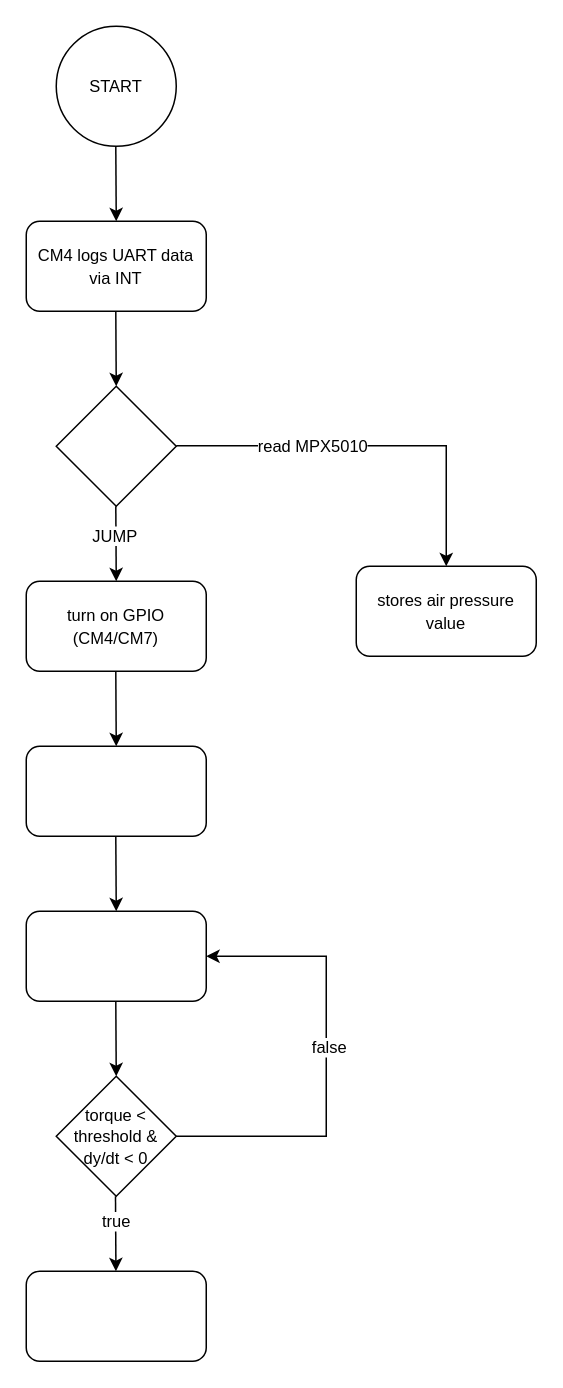
Some shapes in this 563 by 1388 pixel diagram are drawn without their labels. The shapes that lost their labels are listed below. From the top down, each one's centre as x and y in pixels, then its label:
At (115,445): "CMD".
At (115,790): "GPIO-IRQ handler (CM7) runs jump code (angles, PID params, eq_point)".
At (115,955): "FDCAN telemetry from STM32G4 moteus".
